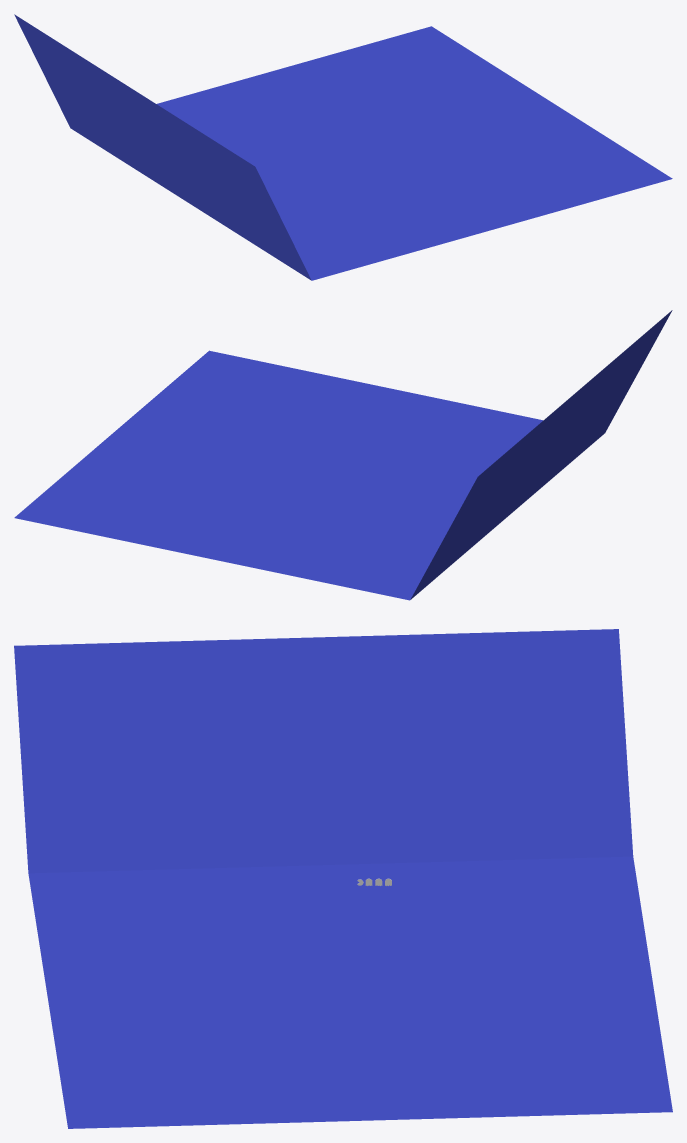
Rendered from uploads_files_3783879_パックマン.fbx.
The picture shows the model from 3 angles, top to bottom: view 1: azimuth 30°, elevation 25°; view 2: azimuth 150°, elevation 25°; view 3: azimuth 270°, elevation 25°; orthographic projection. The views are drawn at different scales.
Visible parts, largest first — view 1: Plane.015; view 2: Plane.015; view 3: Plane.015.
Boxes of the visible parts, box(x1,y1,x2,y2) form: Plane.015: box(14, 14, 672, 280); Plane.015: box(14, 310, 672, 600); Plane.015: box(14, 629, 672, 1128).
Size of the model in its own units: 22088 by 6081 by 19568.
